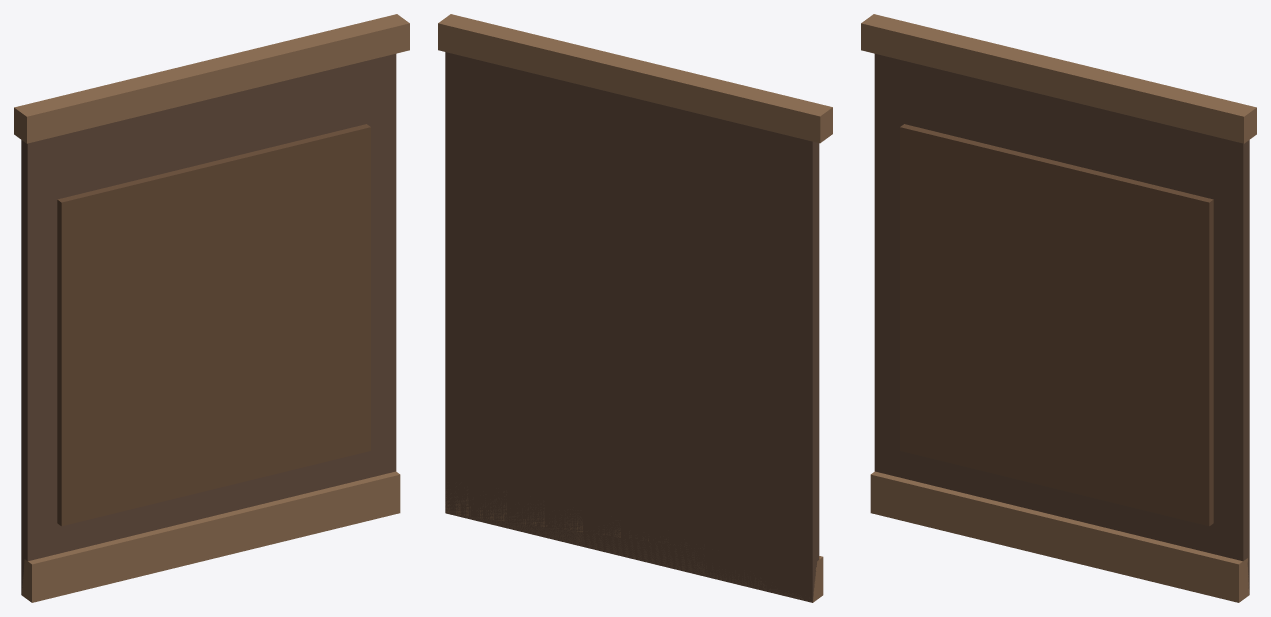
File: wall_panel.glb
The picture shows the model from 3 angles, left to right: view 1: azimuth 30°, elevation 25°; view 2: azimuth 150°, elevation 25°; view 3: azimuth 330°, elevation 25°; orthographic projection.
Visible parts, largest first — view 1: WallPanel; view 2: WallPanel; view 3: WallPanel.
Part boxes in pixels (x1,y1,x2,y2): WallPanel: [14, 14, 409, 602]; WallPanel: [438, 14, 832, 602]; WallPanel: [861, 14, 1256, 602].
Bounding box in the file's own units: 1.04 × 1.27 × 0.06.
